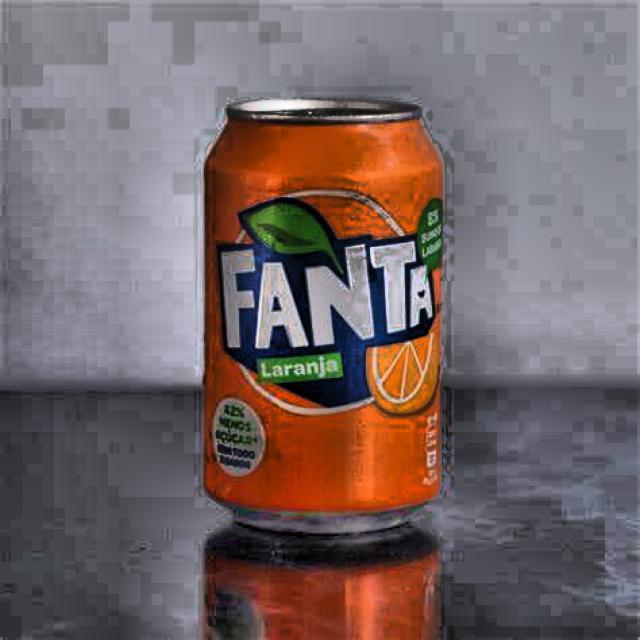Cans: (188, 75, 462, 538)
